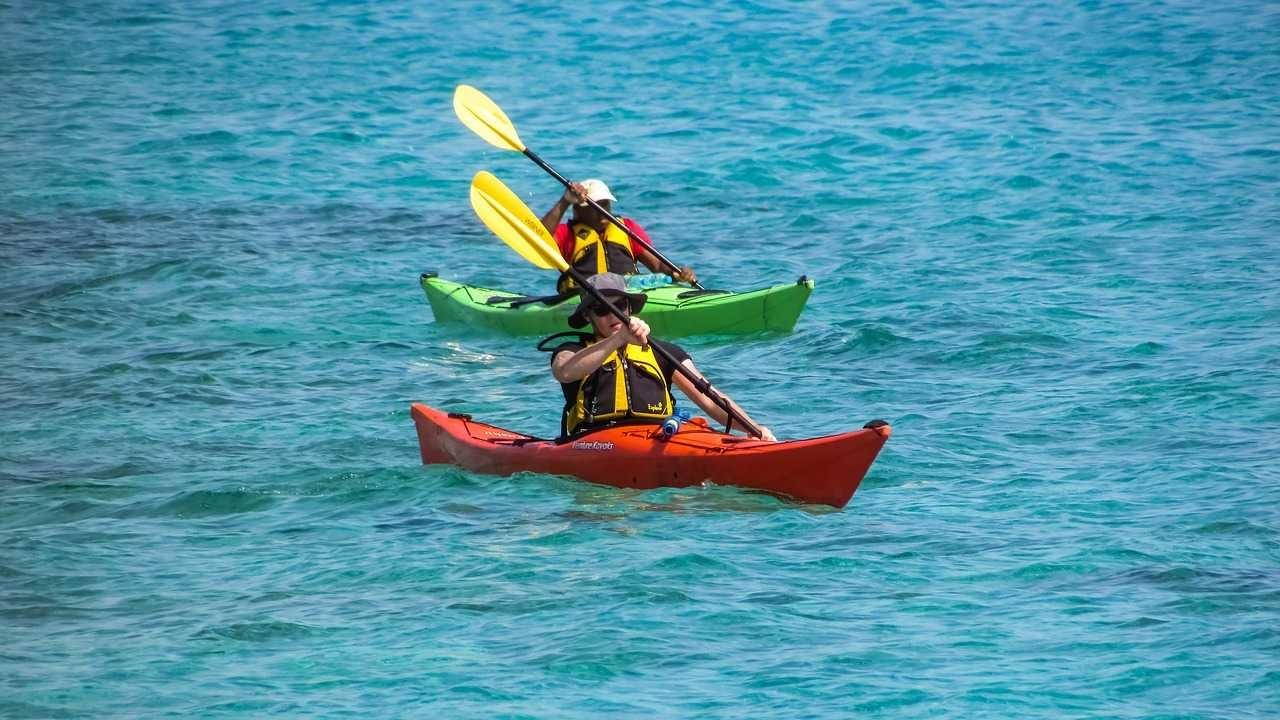kayak: (410, 404, 892, 509), (422, 272, 806, 339)
